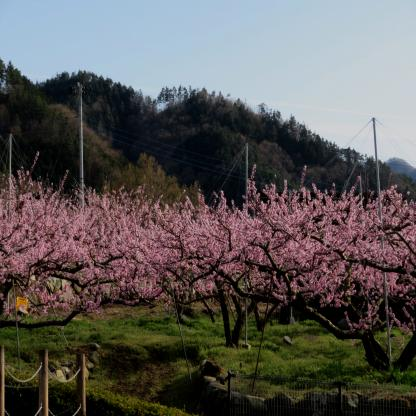Momo: (0, 147, 188, 328), (225, 160, 416, 332), (151, 181, 298, 312)
